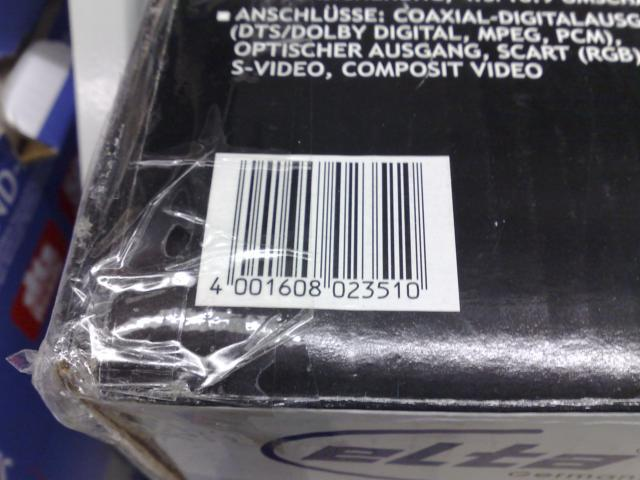Barkod: (228, 159, 430, 280)
